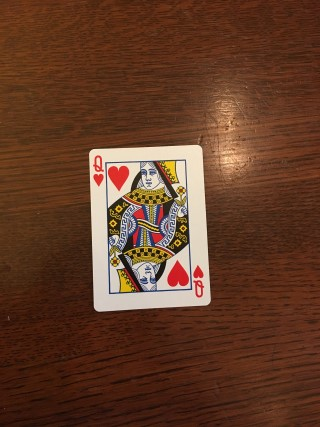QueenOfHearts: (88, 144, 211, 312)
